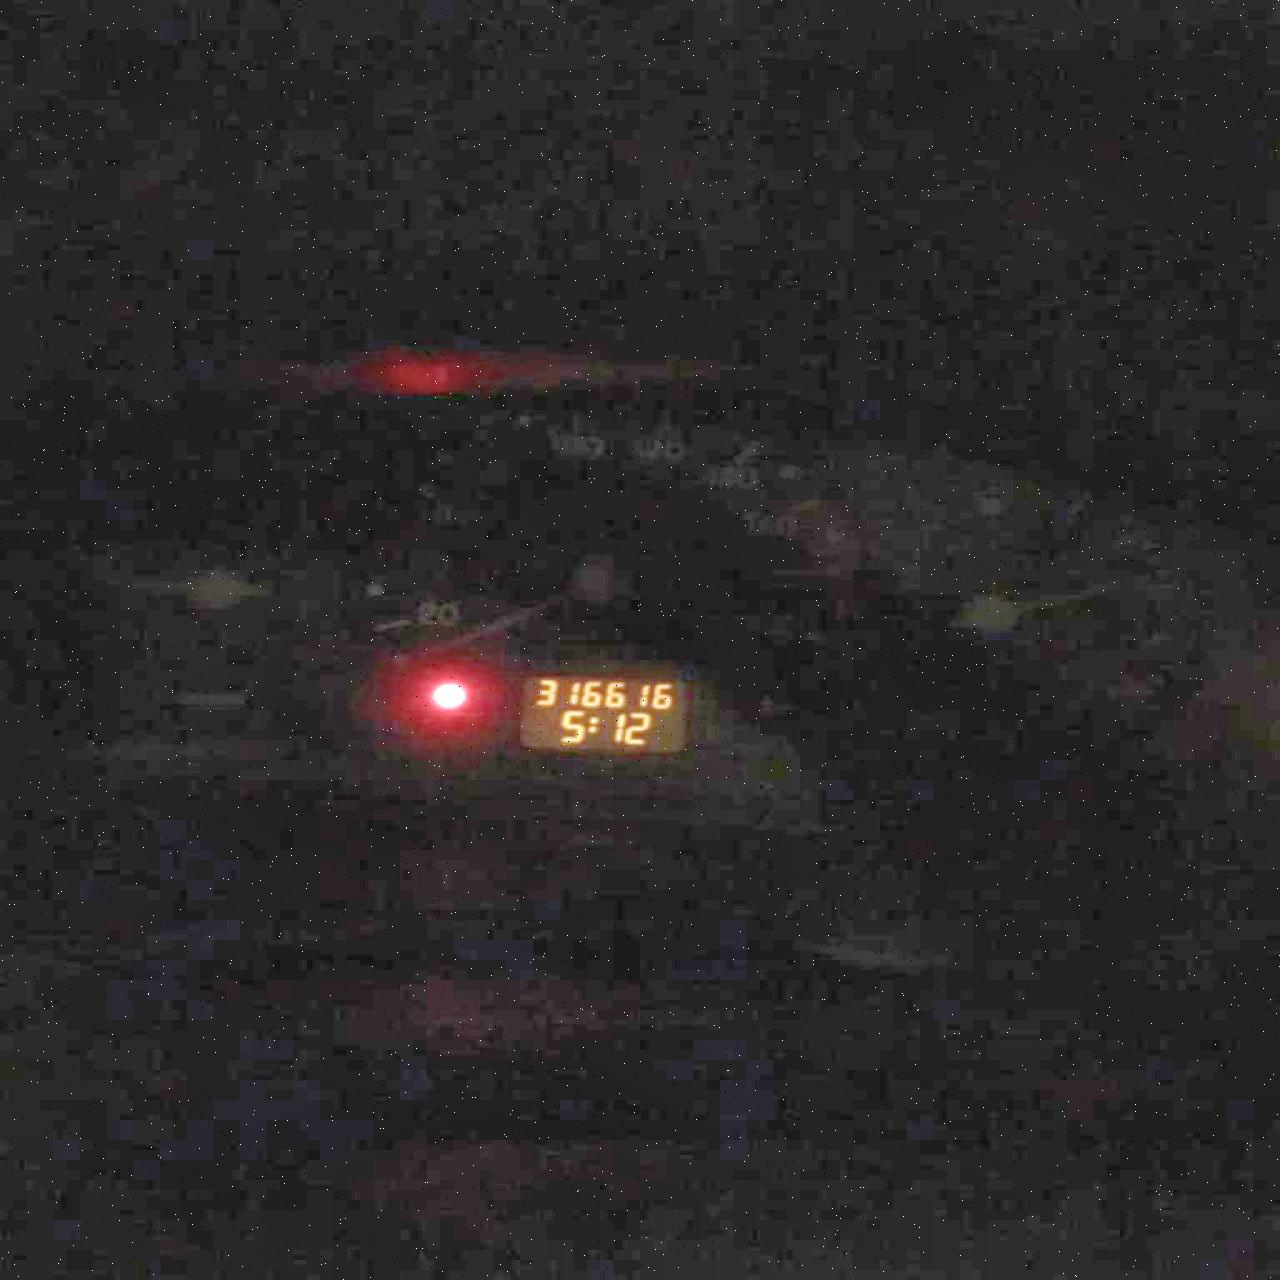1: (613, 710, 625, 745), (568, 681, 579, 703), (639, 682, 647, 708)
2: (627, 712, 648, 745)
3: (537, 679, 556, 704)
5: (560, 708, 581, 742)
6: (581, 679, 600, 707), (605, 680, 624, 706), (652, 682, 670, 708)
X: (587, 714, 600, 735)
odometer: (511, 668, 687, 753)
